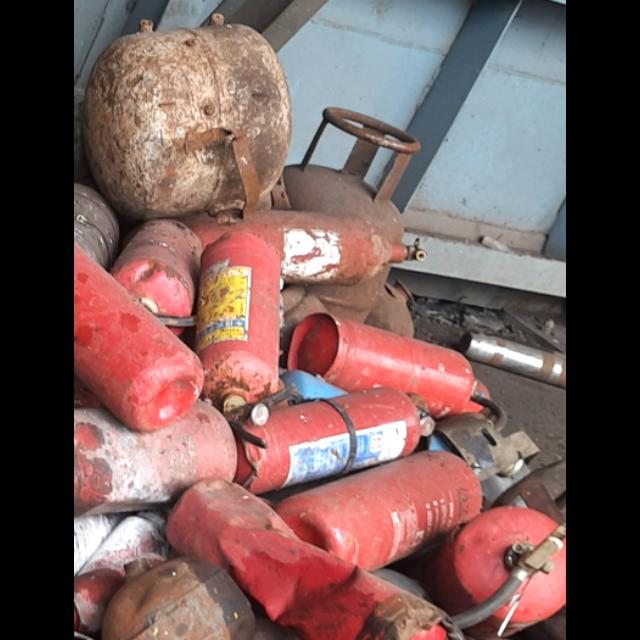Cylinders: (74, 18, 296, 220), (275, 111, 427, 245)
